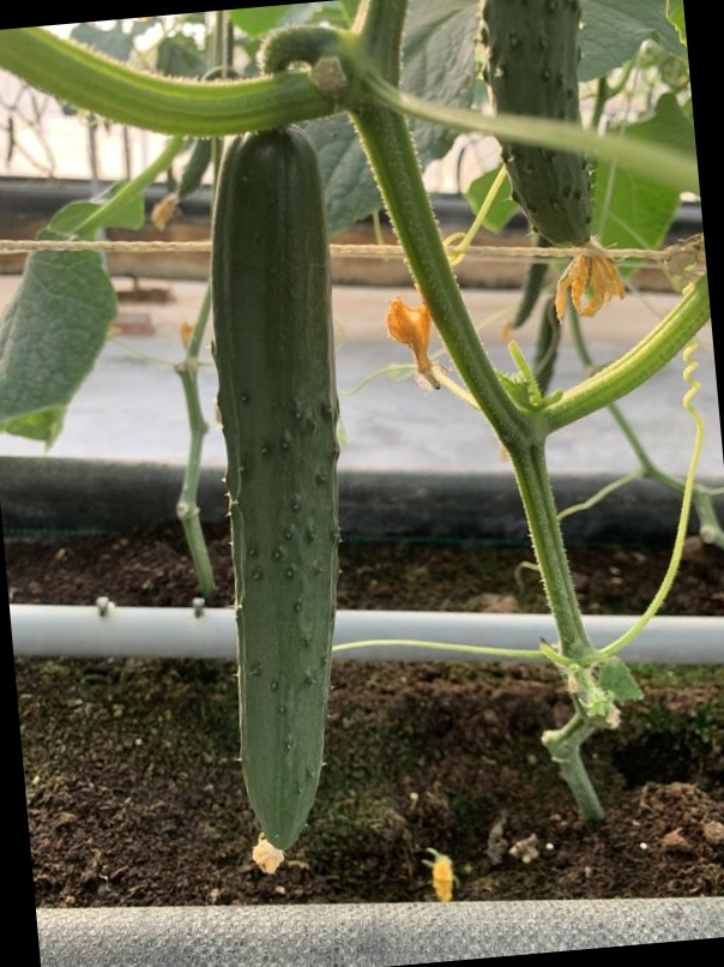mature: (195, 125, 340, 844), (471, 0, 615, 293)
